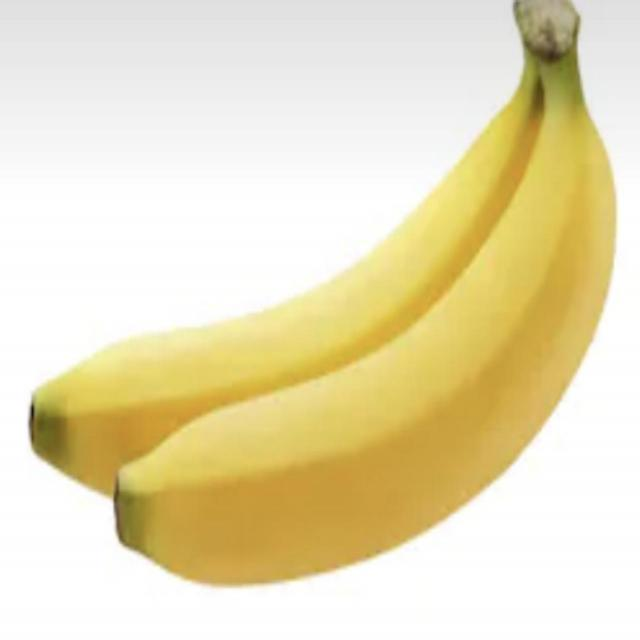banana: (43, 30, 624, 614), (14, 2, 638, 508)
